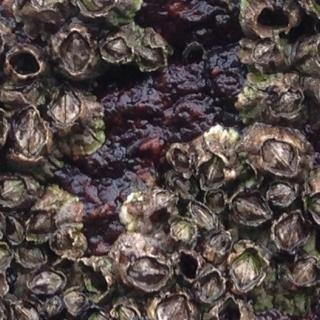Barnacle: (229, 248, 266, 287), (16, 109, 47, 154), (50, 86, 83, 128), (131, 257, 171, 291), (61, 30, 92, 72), (261, 139, 296, 173), (275, 213, 308, 246), (154, 294, 190, 320), (31, 269, 65, 296), (234, 193, 268, 220), (26, 208, 55, 238), (200, 156, 227, 187), (291, 258, 319, 287), (0, 175, 29, 202), (271, 90, 300, 116), (16, 244, 46, 267), (254, 37, 280, 61), (200, 272, 223, 299), (269, 183, 296, 206), (52, 230, 75, 256), (170, 216, 192, 243), (65, 289, 88, 313), (206, 233, 229, 256), (191, 205, 213, 228), (139, 47, 163, 68), (104, 38, 128, 59), (157, 190, 176, 215), (10, 304, 39, 320), (173, 175, 194, 197), (42, 297, 62, 320), (5, 215, 23, 240), (117, 304, 143, 320), (206, 191, 225, 212), (172, 152, 190, 167), (0, 246, 10, 268)
